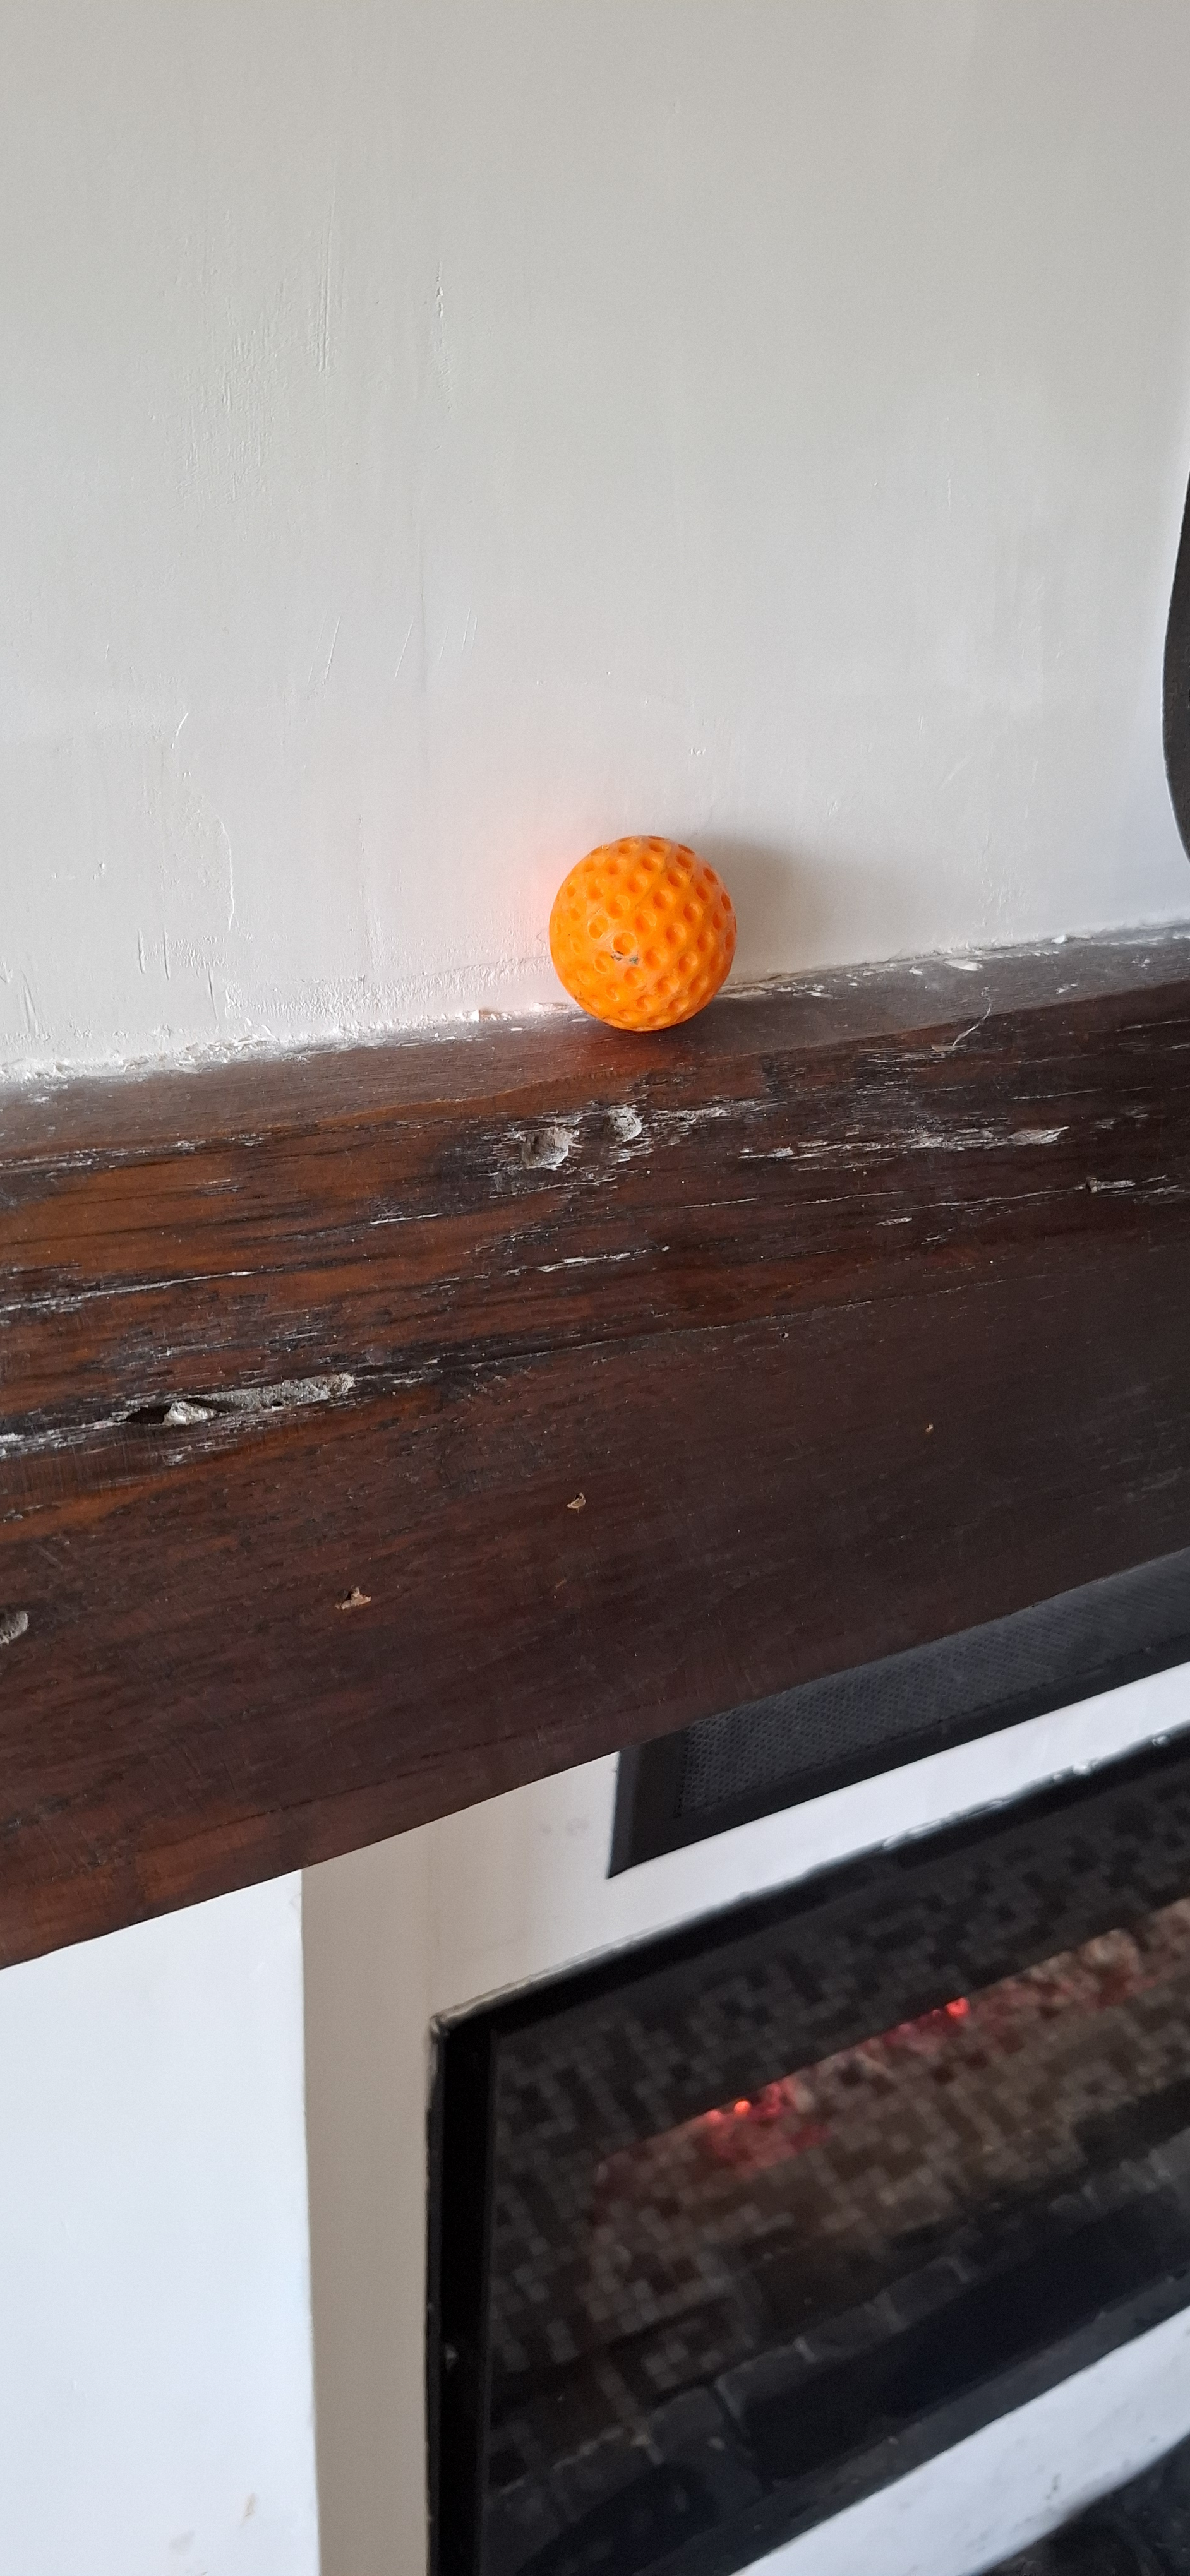ball: (386, 982, 477, 1390)
